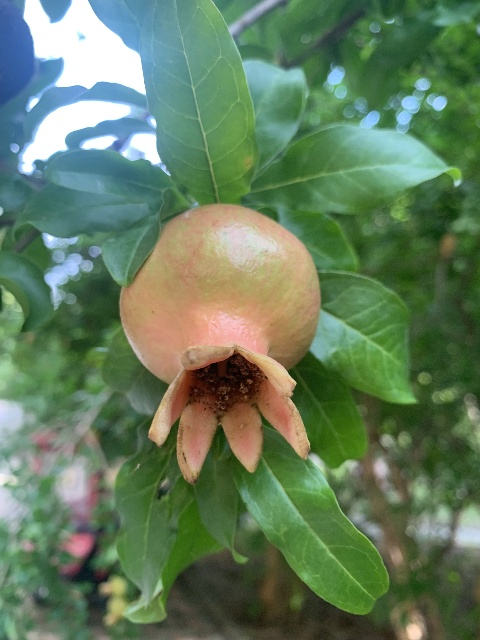early-fruit: (120, 205, 321, 484)
